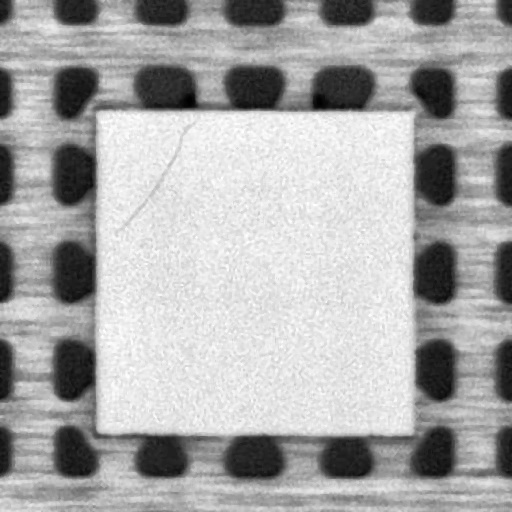DIE_CRACK: (118, 119, 196, 228)
